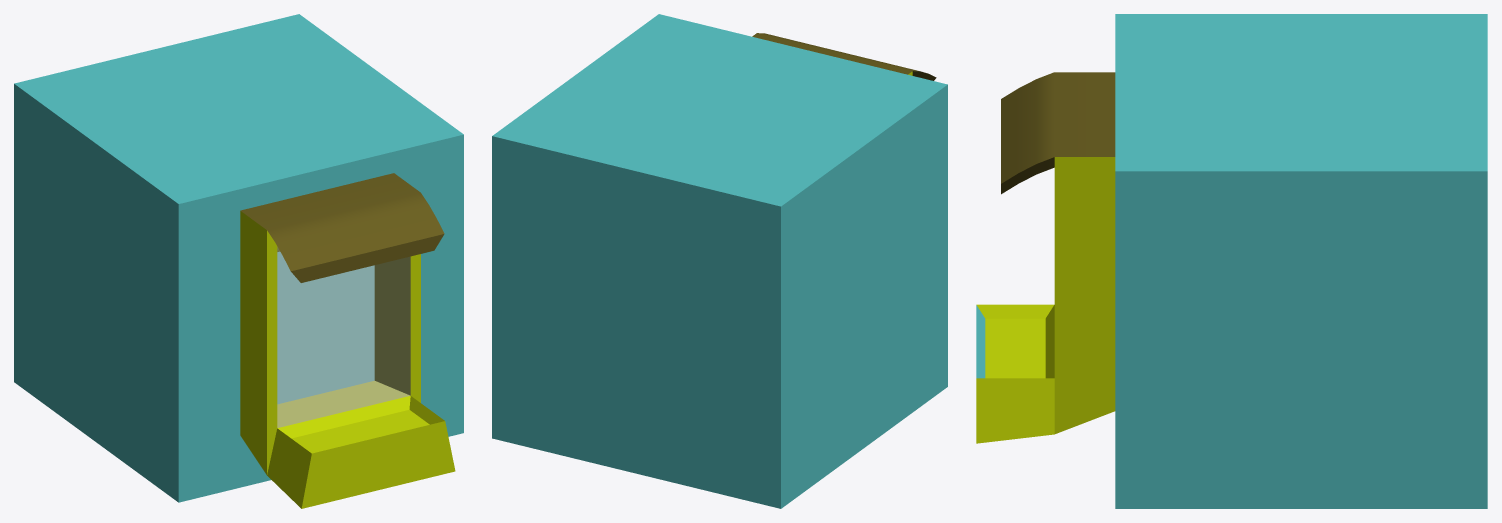
The model's file is Miffle block blueyellow.fbx.
3 views of the same model, side by side, from view 1: azimuth 30°, elevation 25°; view 2: azimuth 150°, elevation 25°; view 3: azimuth 270°, elevation 25° (orthographic). The views are drawn at different scales.
Visible parts, largest first — view 1: pCube24; view 2: pCube24; view 3: pCube24.
Part boxes in pixels (x1,y1,x2,y2): pCube24: [14, 14, 463, 508]; pCube24: [492, 14, 947, 508]; pCube24: [976, 14, 1487, 508].
Size of the model in its own units: 2 by 2 by 2.75.
